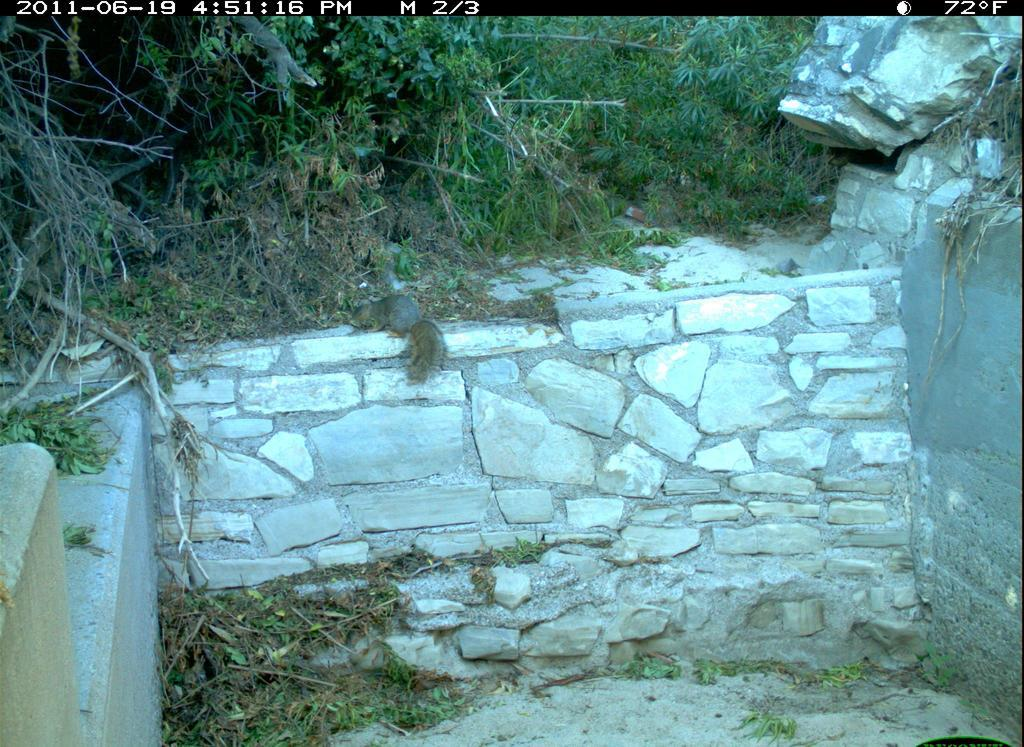squirrel: (349, 281, 464, 388)
